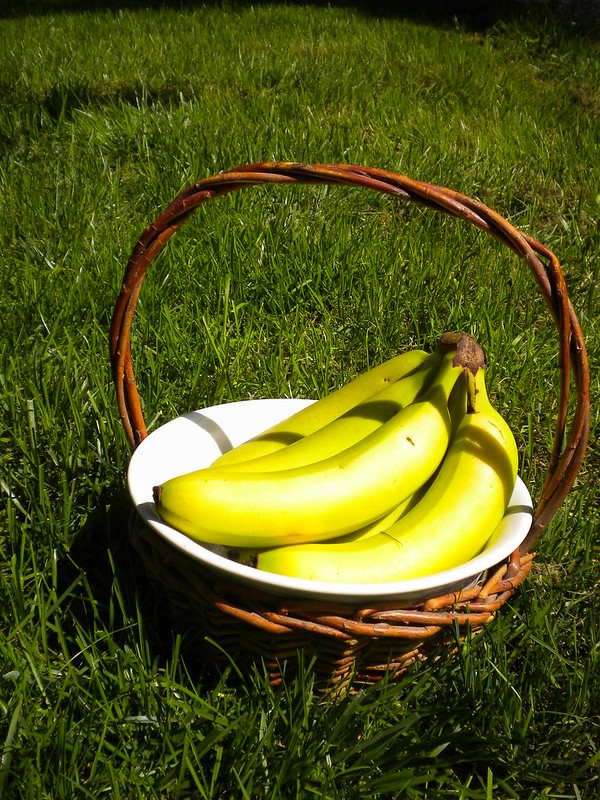banana: (163, 357, 517, 597)
